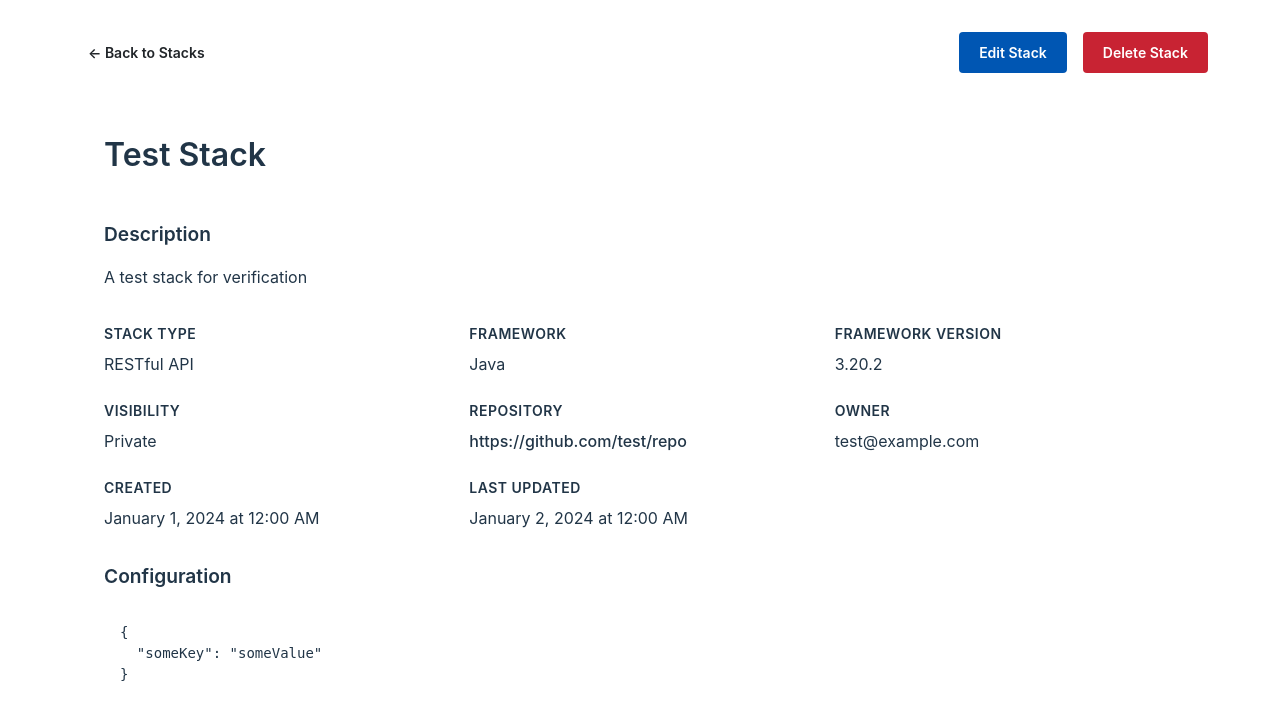
Test: StackDetails - Removed Fields Tests › Requirement 6.3: Stack details functionality remains intact › should show delete confirmation modal
The width and height of the screenshot is (1280, 720).
Click the button "Delete Stack" at (1145, 52), box [1083,32,1208,73]
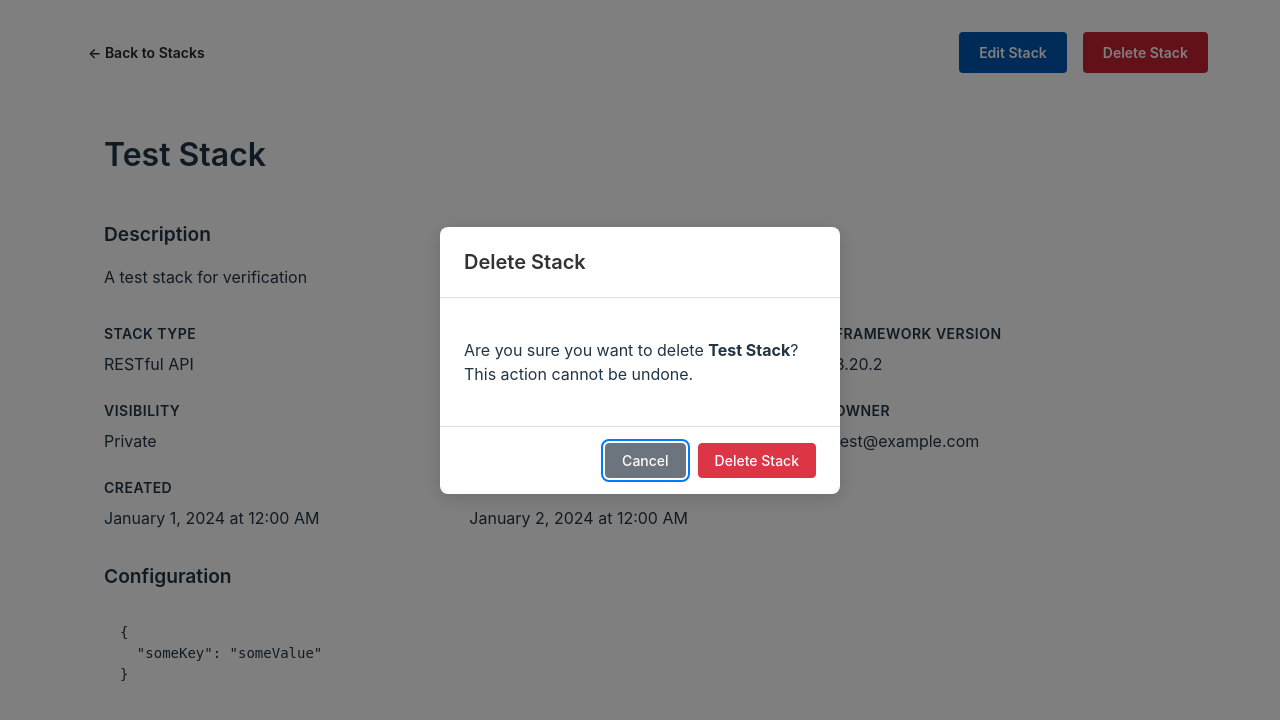
Now the text "Are you sure you want to delete" is shown, box [464,340,708,360]
